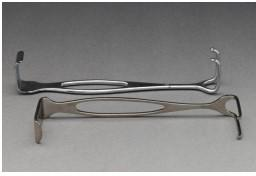Czerney Retractor: (15, 45, 229, 97), (31, 98, 244, 145)
